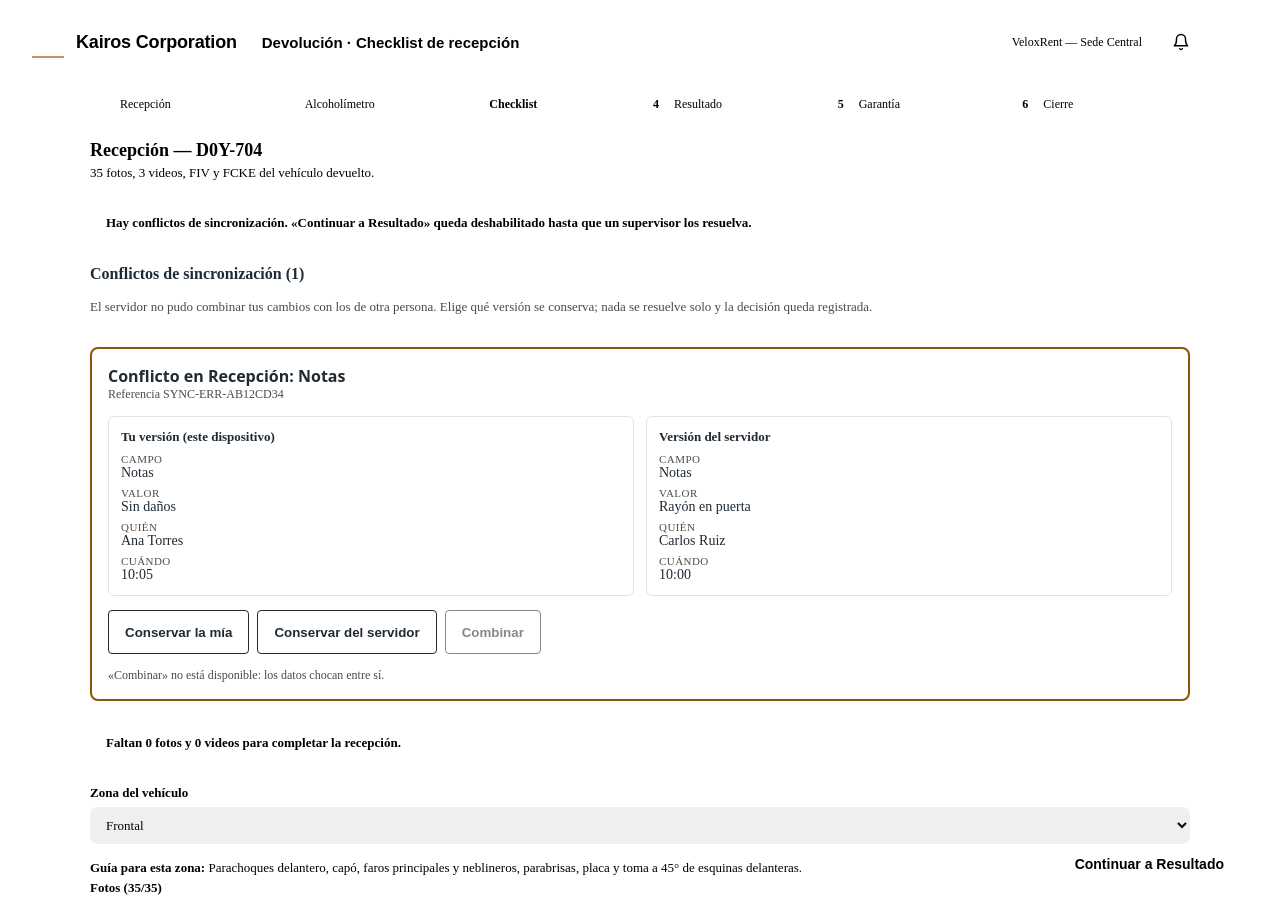
Scenario: DEV-04 ChecklistScreen + sync.yaml › 412 al resolver recarga el estado del servidor y avisa en lenguaje de negocio
This screenshot has width=1280, height=900.
Expected: the element with test id "sync-conflict-card" is shown, [90,347,1190,701]
Click the button "Conservar la mía" at (179, 632), box [108,610,249,654]
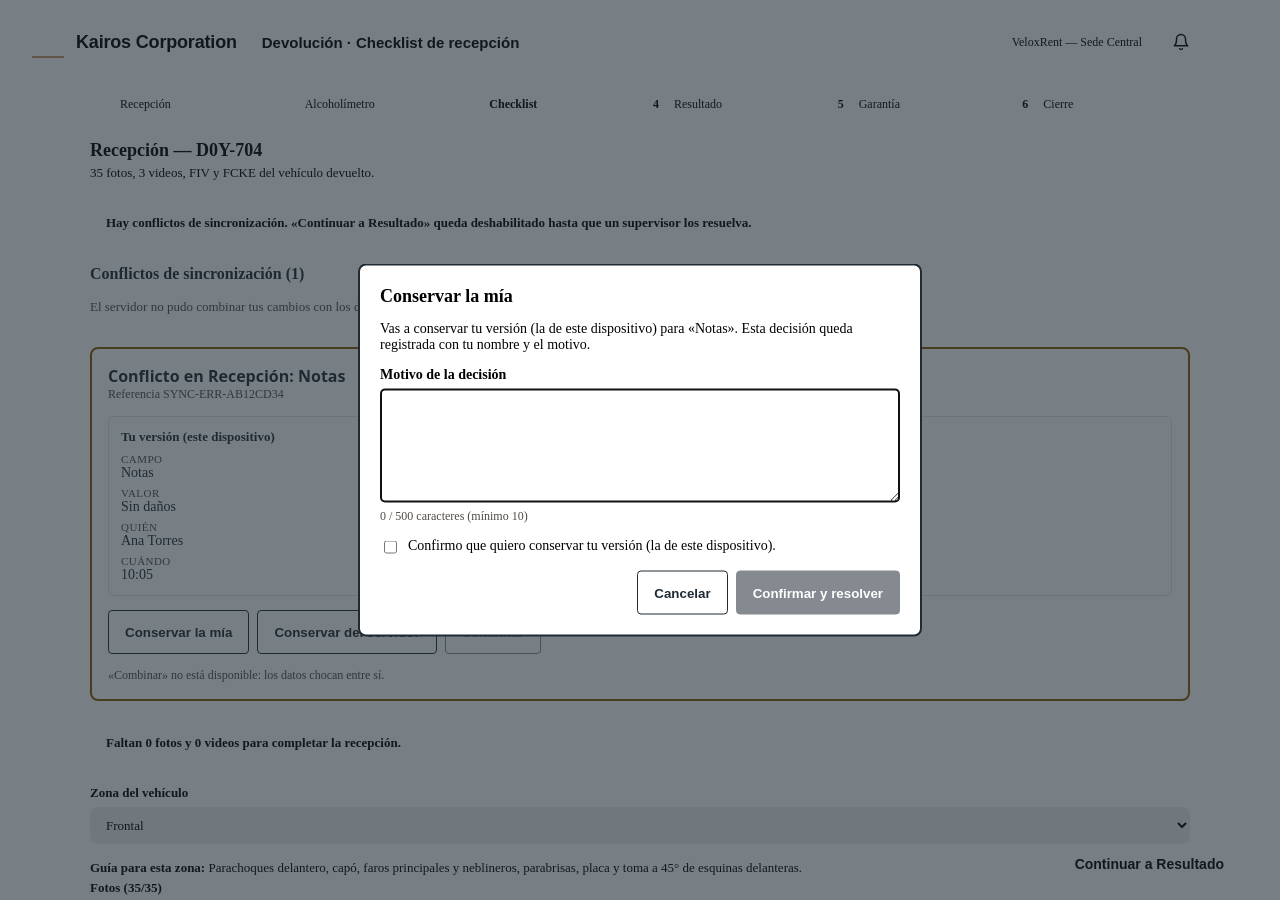
Type "Mi versión es la correcta" into the text box labelled "Motivo de la decisión" at (640, 446), box [380,388,900,502]
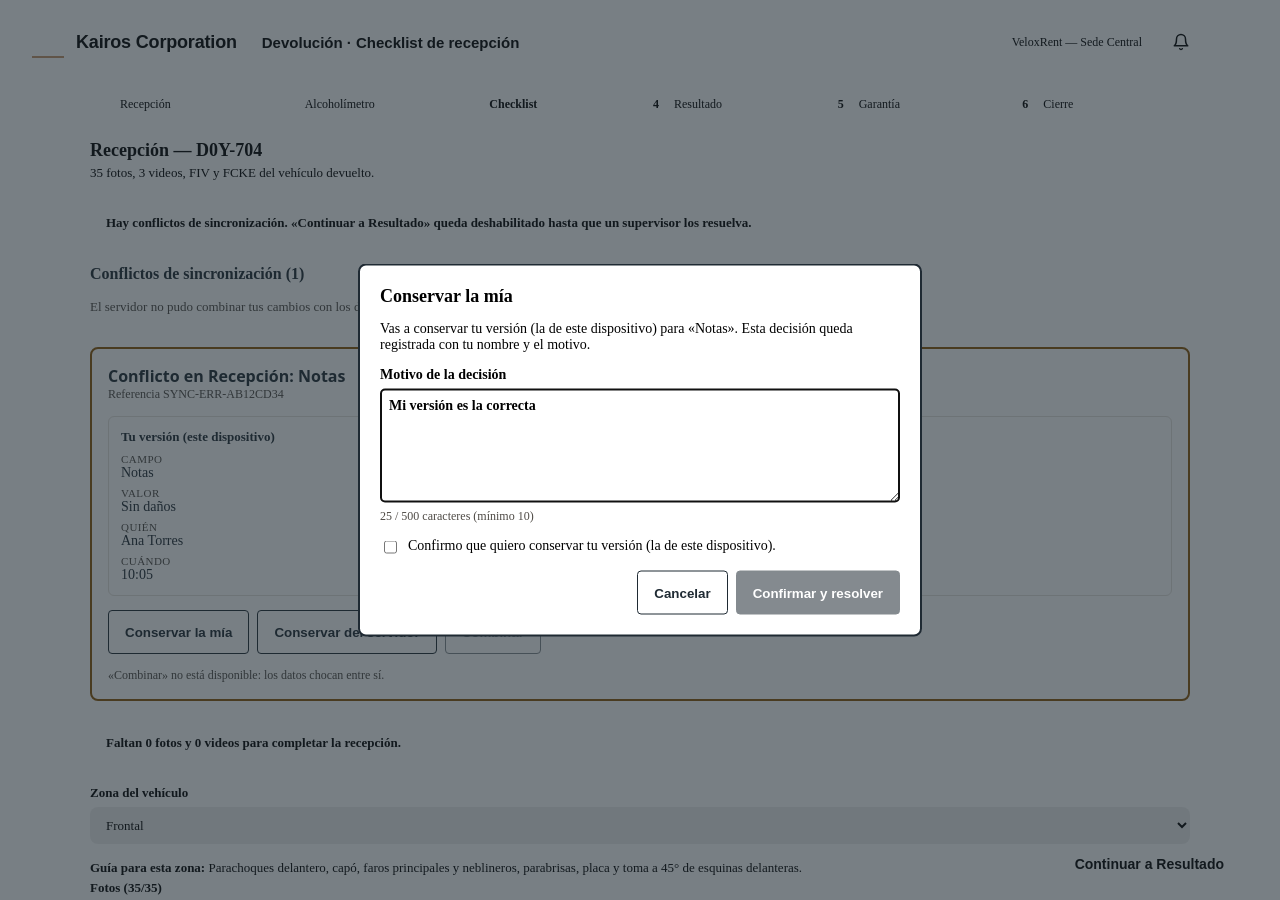
Click the checkbox at (390, 547), box [384,540,397,554]
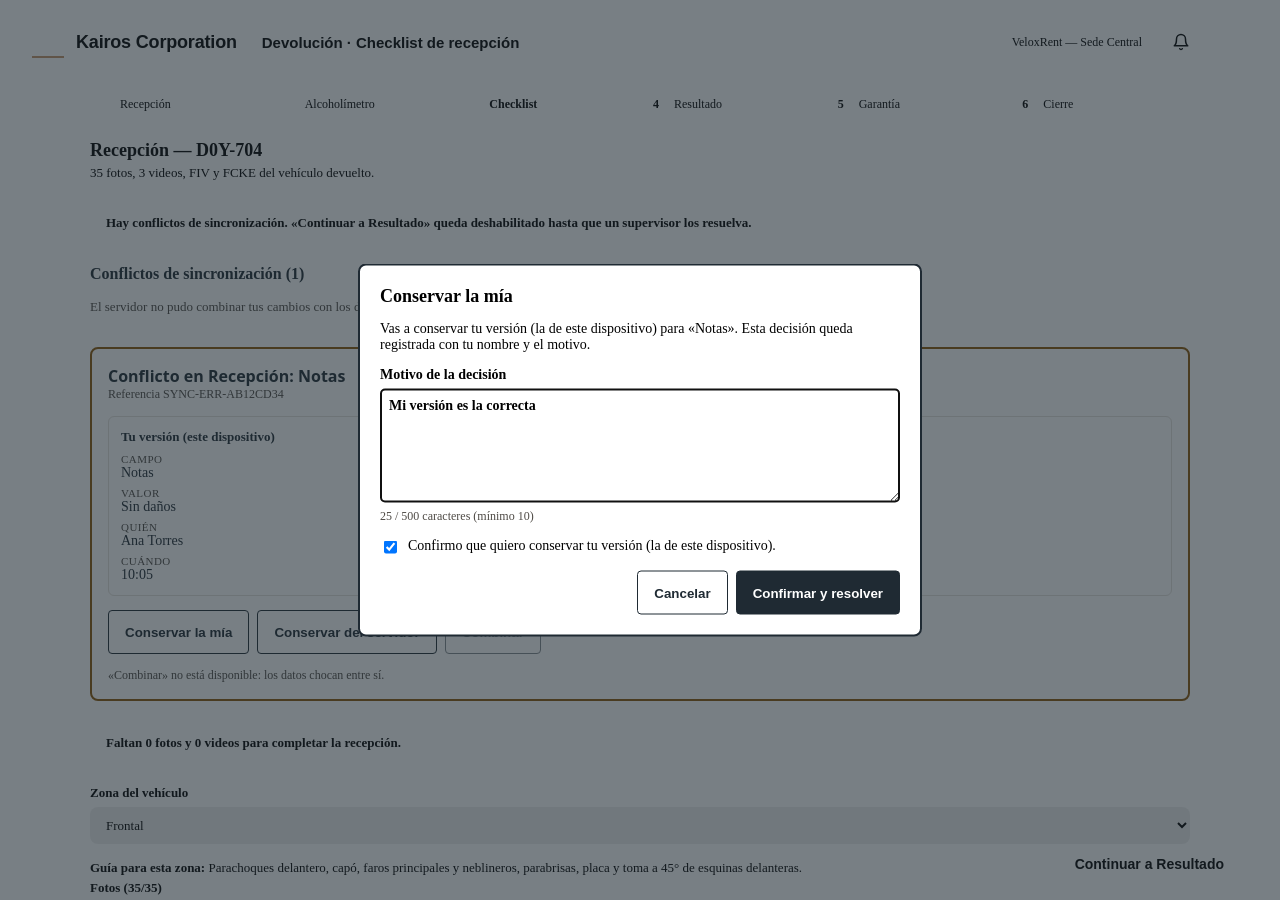
Click the button "Confirmar y resolver" at (818, 592), box [736,570,900,614]
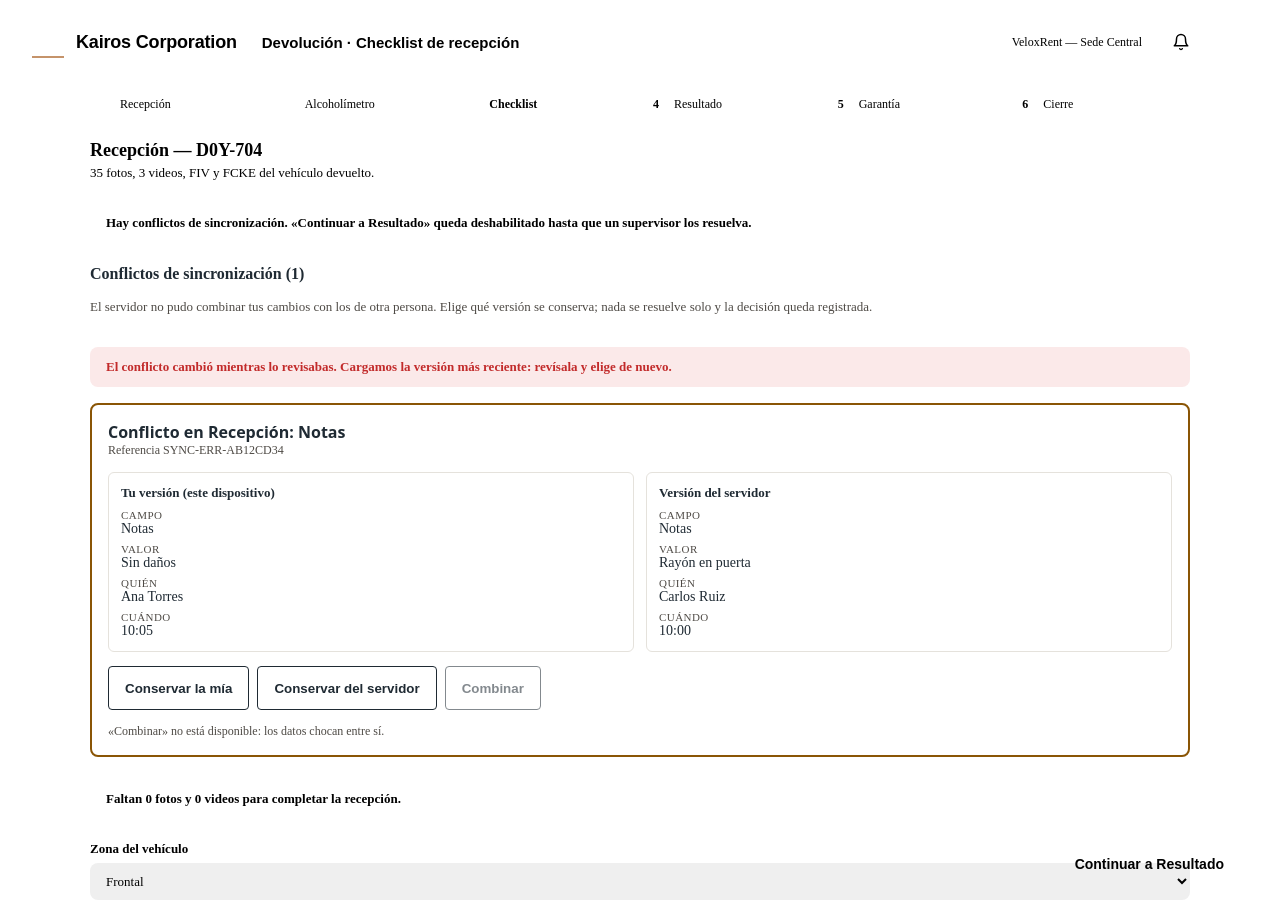
Now the text "El conflicto cambió mientras lo revisabas" is shown, box [106,359,672,374]
